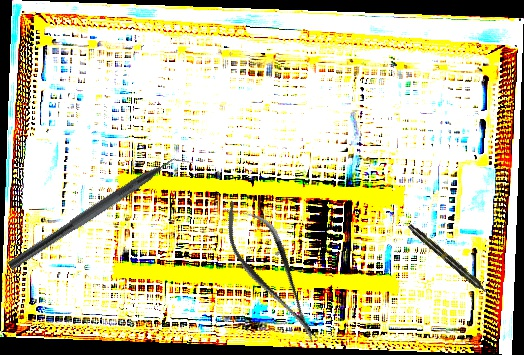Chopper: (6, 144, 196, 283)
Handpiece: (406, 222, 493, 299)
Micro Scissor: (209, 188, 335, 355)
